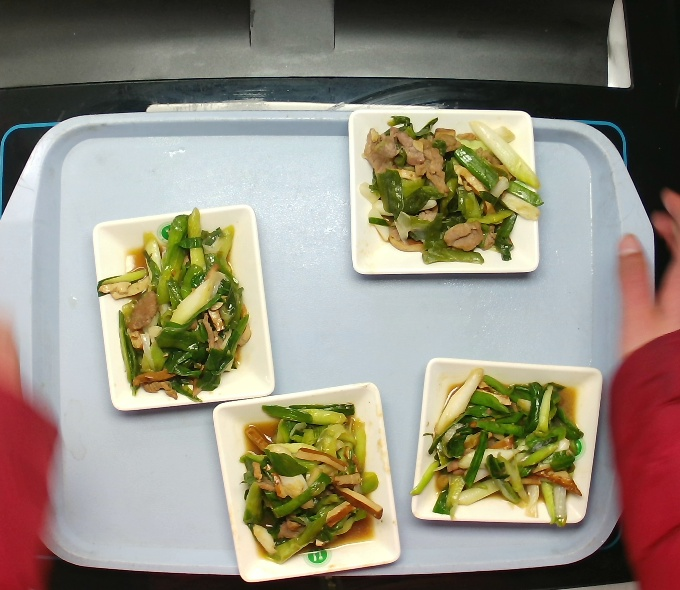wcq-SuanYeChaoRou: (93, 205, 254, 406), (356, 112, 548, 267), (408, 366, 587, 530), (234, 397, 385, 567)
